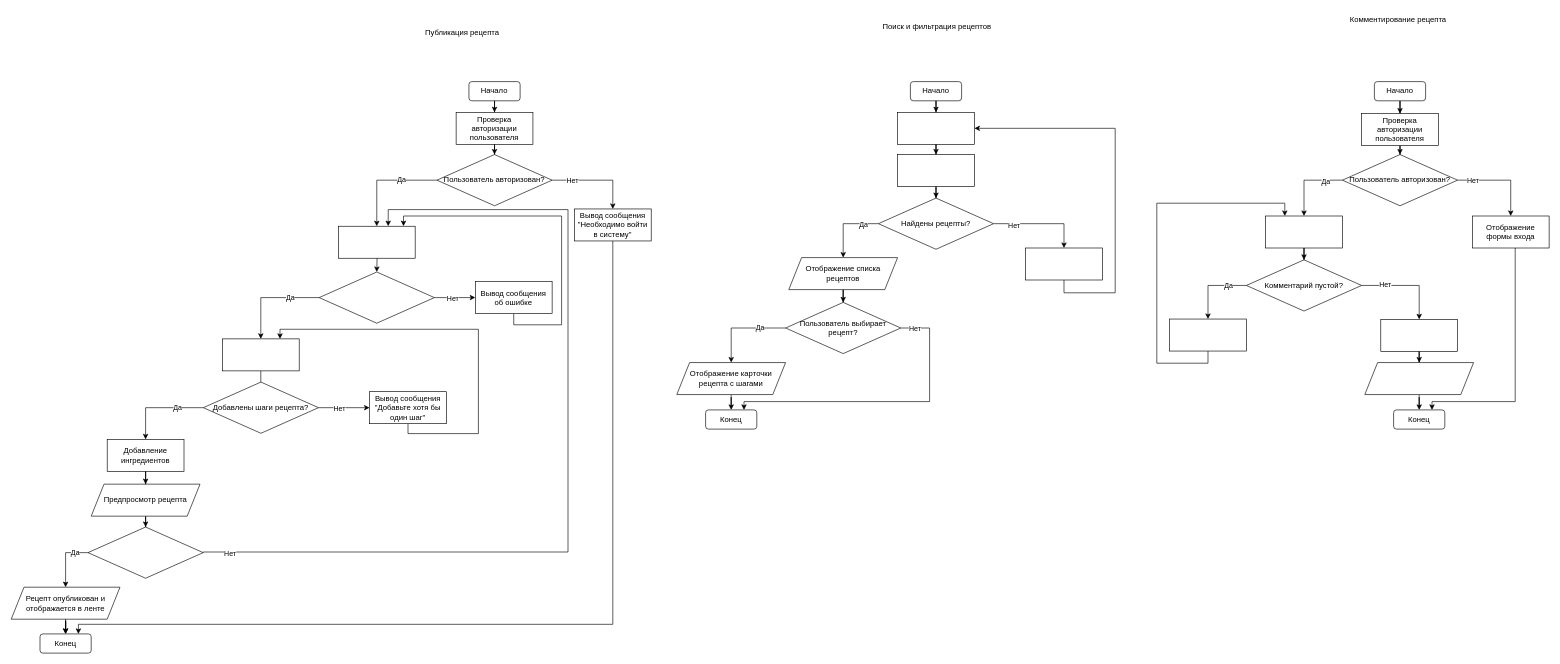
The diagram is 1560 pixels wide and 664 high, and some of its shapes have lost their labels. The box of each missing label's shape, as (x1, y1, x2, y2) in pixels:
Ввод поискового запроса или выбор ингредиентов: (897, 112, 974, 144)
Ввод текста комментария: (1265, 215, 1342, 248)
Все обязательные поля заполнены?: (319, 271, 434, 323)
Вывод сообщения "Комментарий не может быть пустым": (1169, 318, 1246, 351)
Вывод сообщения "Рецепты не найдены": (1025, 247, 1102, 280)
Добавление шагов рецепта: (222, 338, 299, 371)
Заполнение формы рецепта (название, описание, время): (338, 226, 415, 258)
Комментарий отображается под рецептом: (1364, 362, 1474, 395)
Отправка комментария: (1380, 319, 1458, 351)
Подтвердить публикацию?: (87, 526, 203, 578)
Применение фильтрации: (897, 154, 974, 187)
